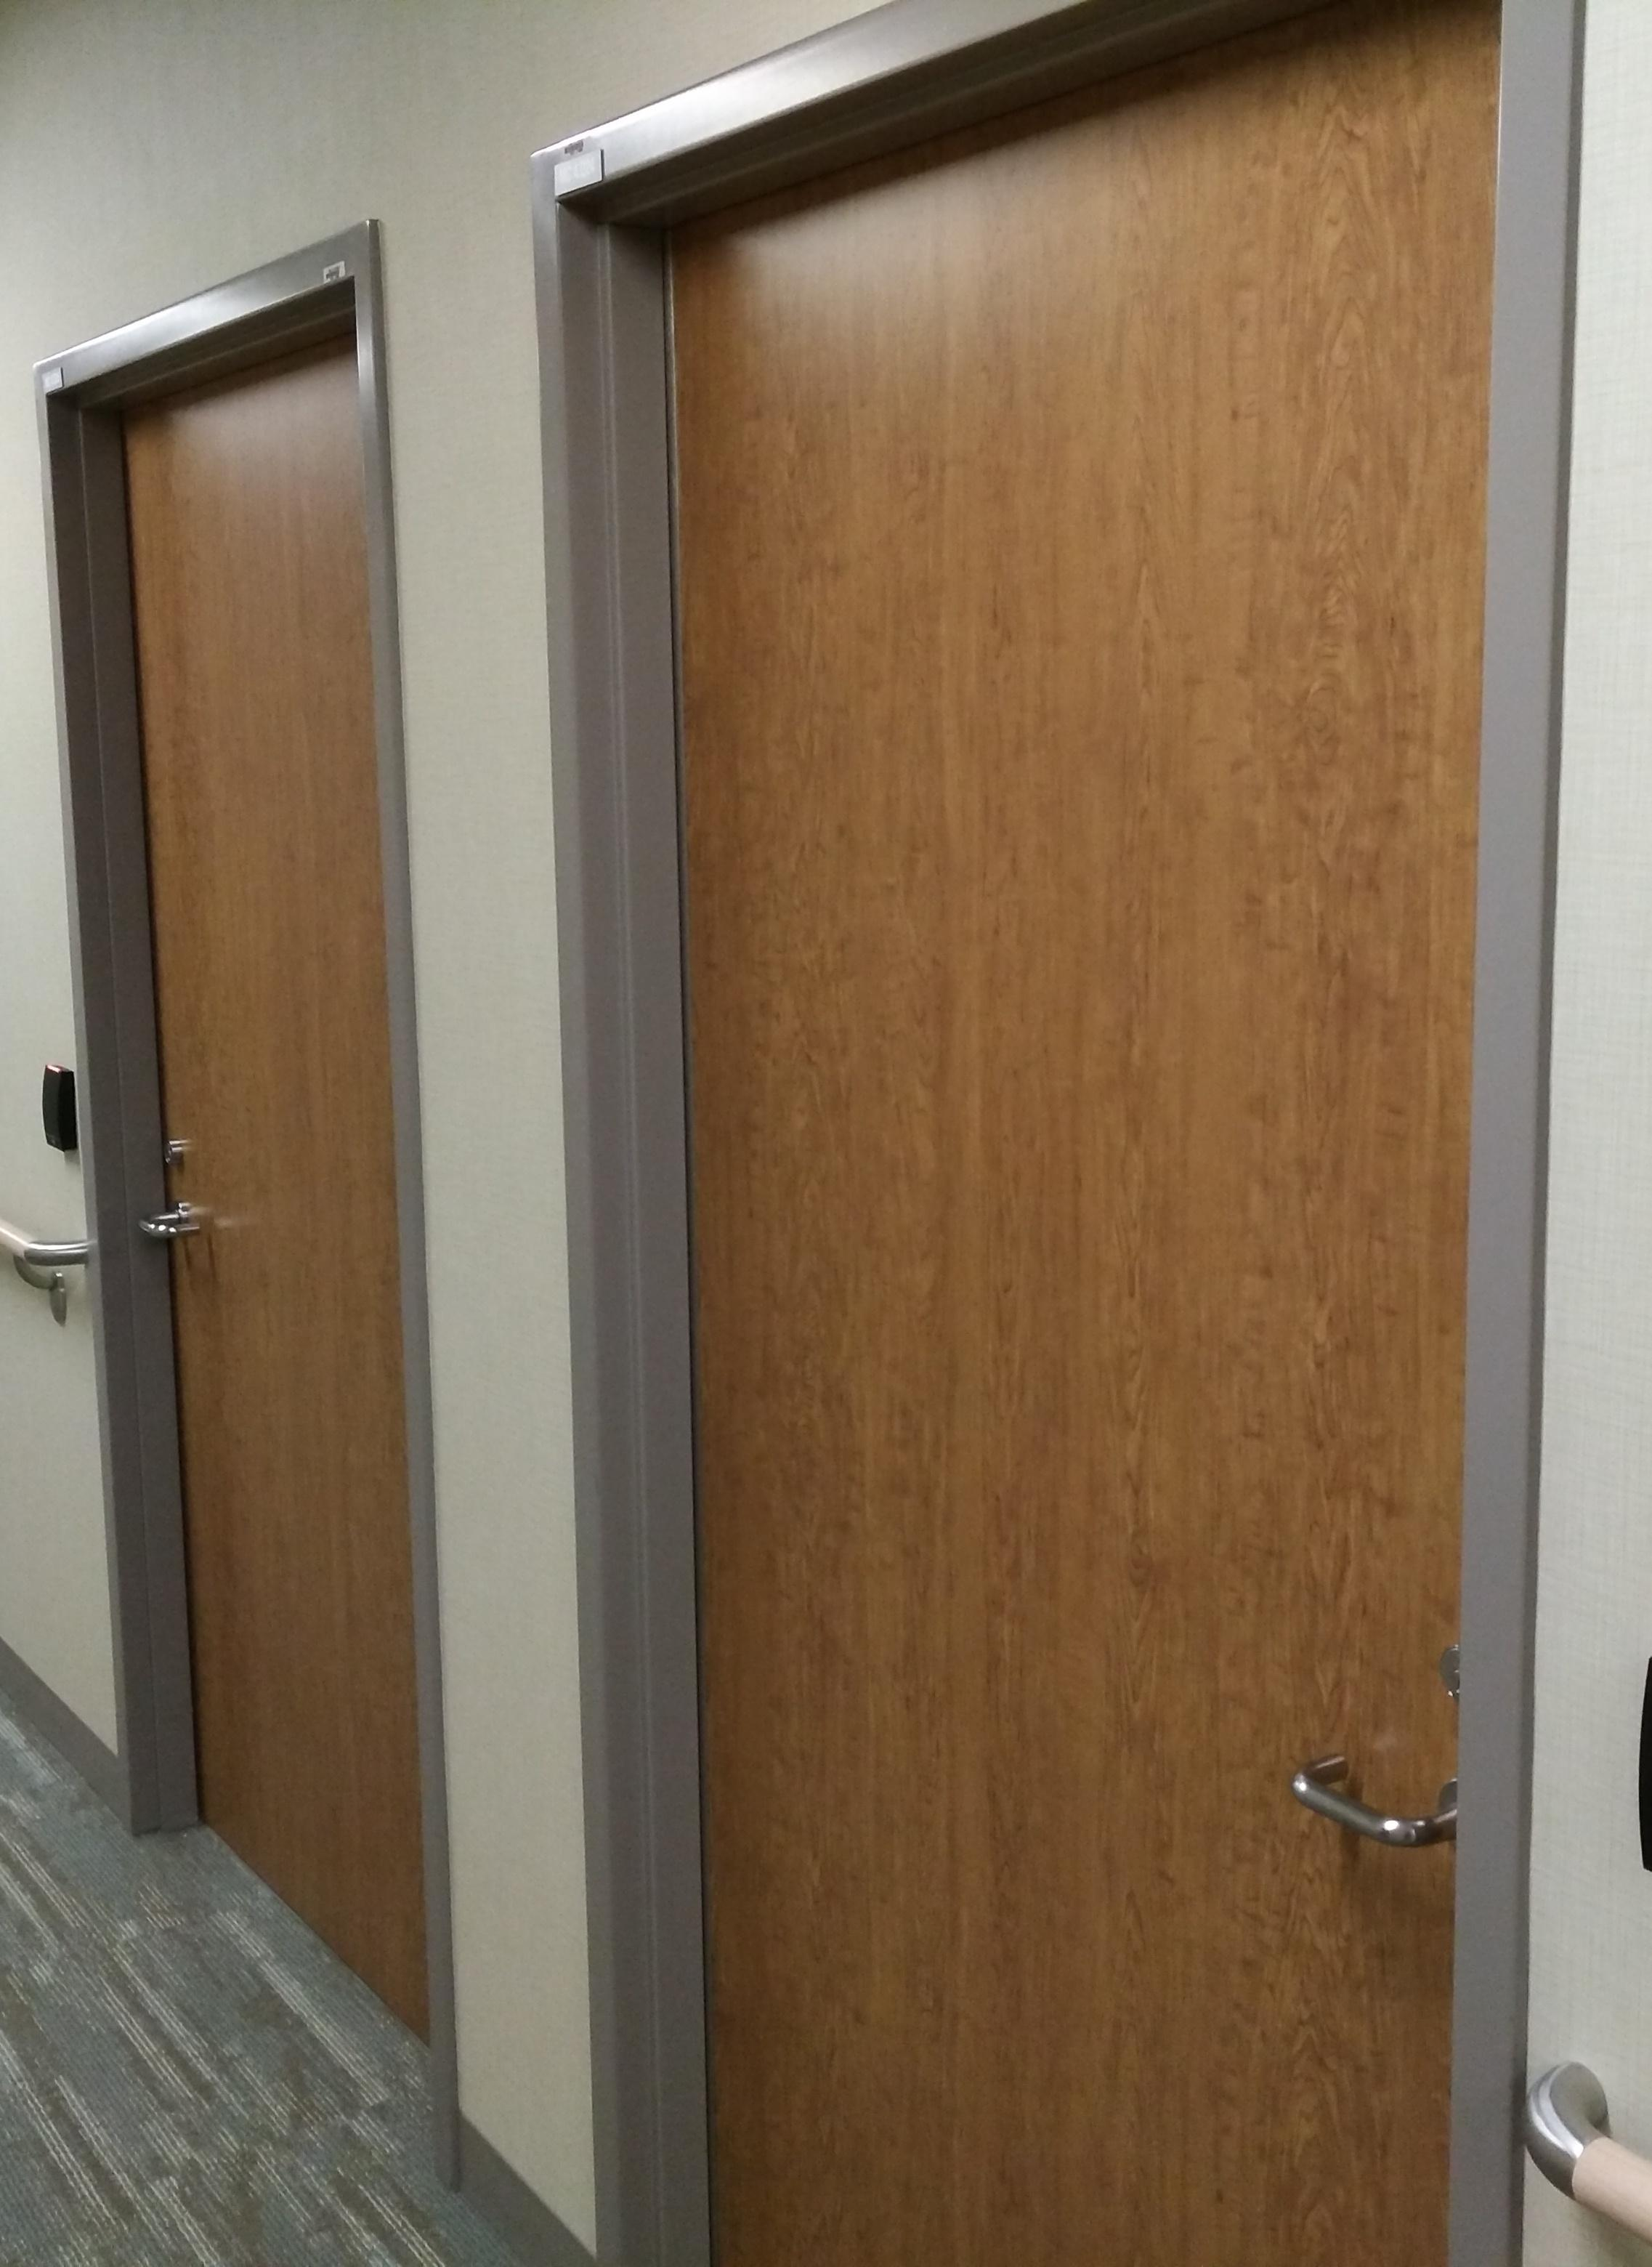door: (644, 9, 1497, 2267), (81, 350, 412, 2017)
